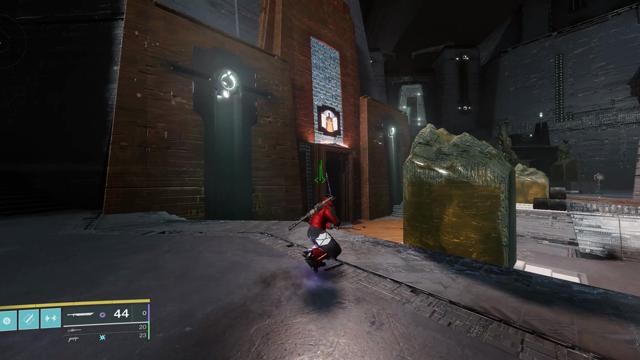worship: (321, 110, 337, 132)
